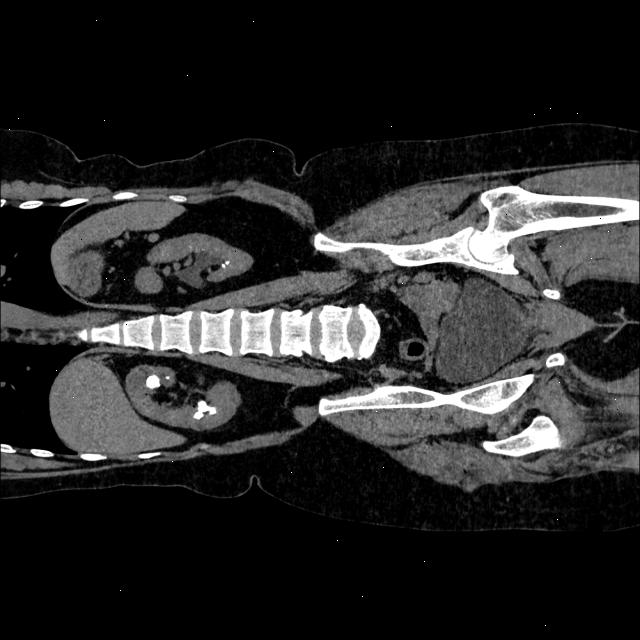kidneystone: (193, 399, 215, 419), (145, 374, 161, 388), (221, 259, 230, 268)
